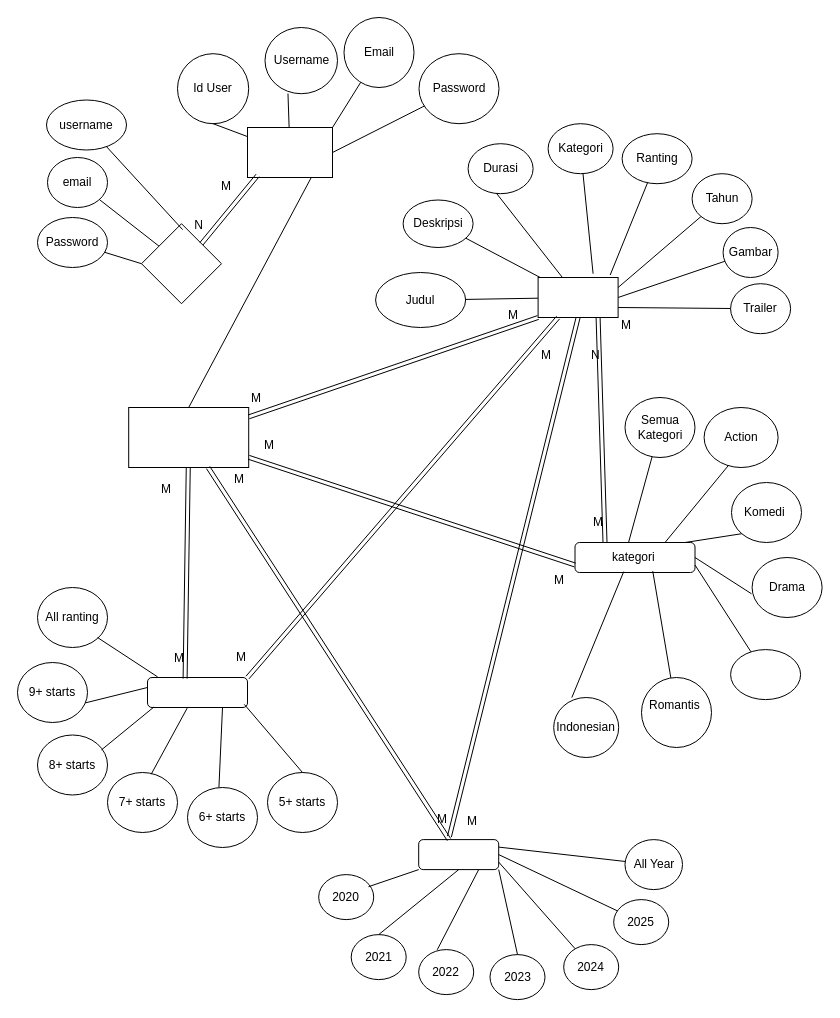
Image size: 840x1018. Some labels were removed from this diagram. The shapes that lost their labels are listed below. From the top down, each one's centre as x and y in pixels, then its label:
At point (289, 152): "Login".
At point (181, 263): "Registrasi".
At point (577, 297): "Film".
At point (188, 437): "Pengguna".
At point (197, 692): "Rating".
At point (765, 674): "Horor".
At point (458, 854): "Year".
